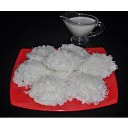idiyappam: (32, 73, 71, 107), (14, 58, 50, 86), (74, 72, 107, 102), (47, 45, 83, 72), (82, 51, 120, 74)
